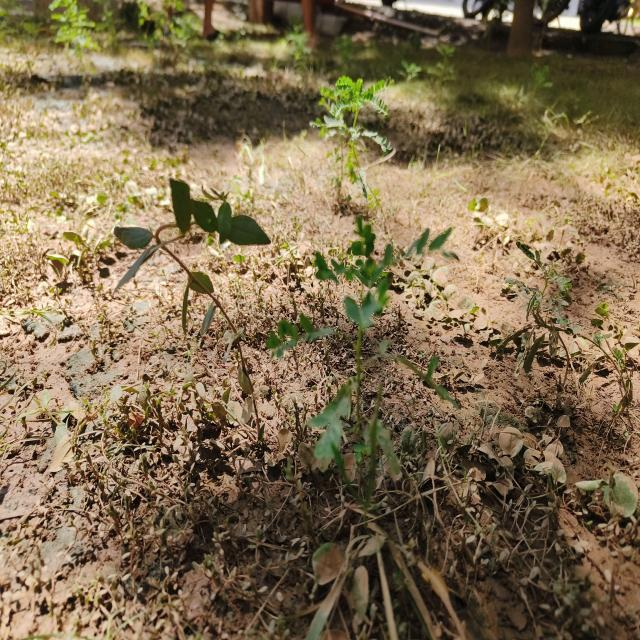weed: (115, 181, 322, 398), (309, 220, 442, 482)
